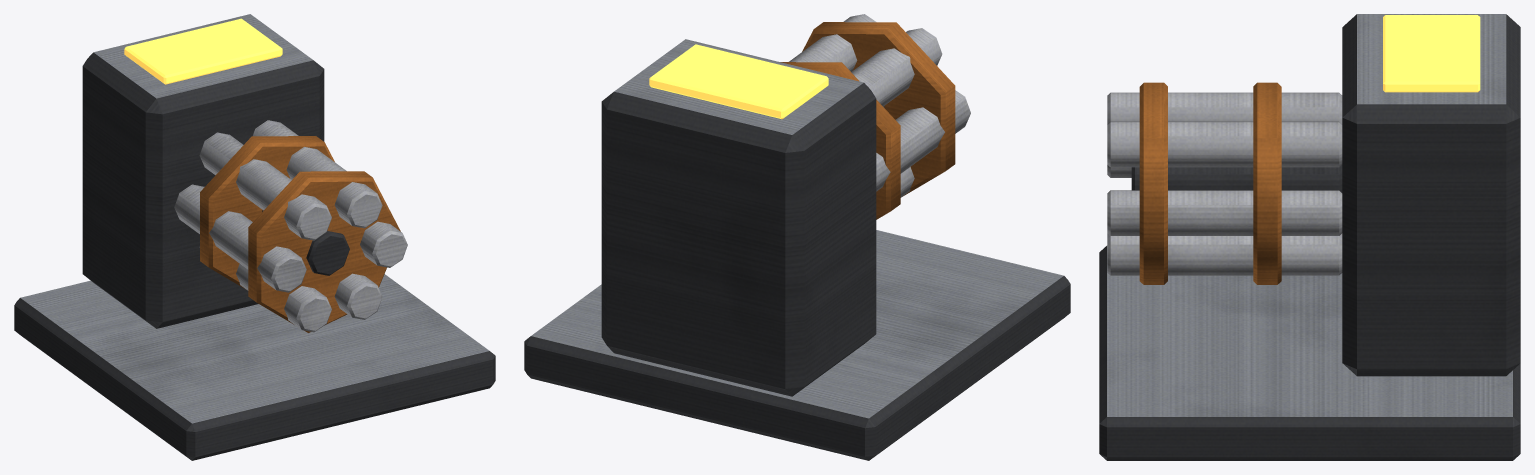
File: R4X_RapidFire_LOD1.glb
The picture shows the model from 3 angles, left to right: view 1: azimuth 30°, elevation 25°; view 2: azimuth 150°, elevation 25°; view 3: azimuth 270°, elevation 25°; orthographic projection. The views are drawn at different scales.
Visible parts, largest first — view 1: R4X_RapidFire_LOD1; view 2: R4X_RapidFire_LOD1; view 3: R4X_RapidFire_LOD1.
Boxes of the visible parts, x1,y1,x2,y2 form: R4X_RapidFire_LOD1: [14, 14, 495, 460]; R4X_RapidFire_LOD1: [524, 14, 1070, 460]; R4X_RapidFire_LOD1: [1099, 14, 1520, 460].
Bounding box in the file's own units: 0.52 × 0.445 × 0.52.
5 materials, 4 textured.
